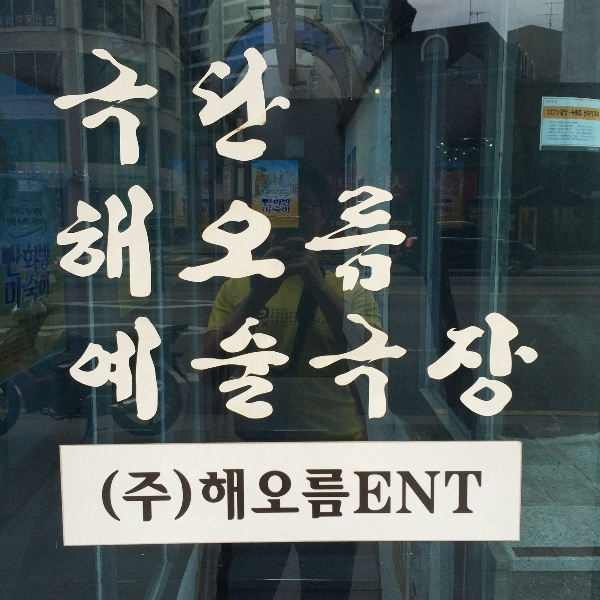text: (65, 43, 80, 171), (81, 43, 96, 171), (97, 43, 112, 171), (113, 43, 128, 171), (129, 43, 144, 171), (145, 43, 160, 171), (161, 43, 176, 171), (177, 43, 192, 171), (193, 43, 208, 171), (209, 43, 224, 171), (225, 43, 240, 171), (241, 43, 256, 171), (257, 43, 272, 171), (273, 43, 288, 171), (65, 181, 80, 301), (81, 181, 96, 301), (97, 181, 112, 301), (113, 181, 128, 301), (129, 181, 144, 301), (145, 181, 160, 301), (161, 181, 176, 301), (177, 181, 192, 301), (193, 181, 208, 301), (209, 181, 224, 301), (225, 181, 240, 301), (241, 181, 256, 301), (257, 181, 272, 301), (273, 181, 288, 301), (289, 181, 304, 301), (305, 181, 320, 301), (321, 181, 336, 301), (337, 181, 352, 301), (353, 181, 368, 301), (369, 181, 384, 301), (385, 181, 400, 301), (81, 308, 96, 424), (97, 308, 112, 424), (113, 308, 128, 424), (129, 308, 144, 424), (145, 308, 160, 424), (161, 308, 176, 424), (177, 308, 192, 424), (193, 308, 208, 424), (209, 308, 224, 424), (225, 308, 240, 424), (241, 308, 256, 424), (257, 308, 272, 424), (273, 308, 288, 424), (289, 308, 304, 424), (305, 308, 320, 424), (321, 308, 336, 424), (337, 308, 352, 424), (353, 308, 368, 424), (369, 308, 384, 424), (385, 308, 400, 424), (401, 308, 416, 424), (417, 308, 432, 424), (433, 308, 448, 424), (449, 308, 464, 424), (465, 308, 480, 424), (481, 308, 496, 424), (497, 308, 512, 424), (513, 308, 528, 424), (529, 308, 539, 424), (1, 302, 16, 375), (17, 302, 32, 375), (33, 302, 48, 375), (49, 302, 64, 375), (57, 43, 64, 171), (113, 467, 128, 526), (129, 467, 144, 526), (145, 467, 160, 526), (161, 467, 176, 526), (177, 467, 192, 526), (209, 468, 224, 526), (225, 468, 240, 526), (241, 468, 256, 526), (257, 468, 272, 526), (273, 468, 288, 526), (289, 468, 304, 526), (305, 468, 320, 526), (321, 468, 336, 526), (337, 468, 351, 526), (73, 308, 80, 424), (401, 181, 407, 301), (17, 267, 32, 315), (33, 267, 48, 315), (369, 470, 384, 517), (385, 470, 400, 517), (401, 470, 416, 517), (417, 470, 432, 517), (433, 470, 448, 517), (449, 470, 464, 517), (465, 470, 480, 517), (354, 470, 368, 517), (1, 240, 16, 281), (17, 240, 32, 281), (33, 240, 48, 281), (102, 467, 112, 526), (198, 468, 208, 526), (4, 267, 16, 315), (385, 174, 400, 200), (17, 206, 32, 230), (33, 206, 48, 230), (561, 120, 576, 142), (577, 120, 592, 142), (547, 120, 560, 142), (289, 43, 291, 171), (375, 174, 384, 200), (7, 206, 16, 230), (225, 166, 231, 199), (49, 240, 53, 281), (49, 267, 52, 315), (481, 470, 484, 517), (401, 174, 406, 200), (561, 109, 576, 117), (273, 206, 288, 214), (273, 198, 288, 206), (201, 198, 208, 214), (548, 109, 560, 116), (262, 198, 272, 206), (263, 206, 272, 214), (584, 110, 592, 118), (593, 110, 600, 118), (593, 120, 595, 142), (546, 100, 560, 103), (571, 110, 576, 117), (577, 110, 582, 117), (223, 166, 224, 199), (209, 198, 211, 214), (289, 198, 292, 206), (289, 206, 291, 214)
